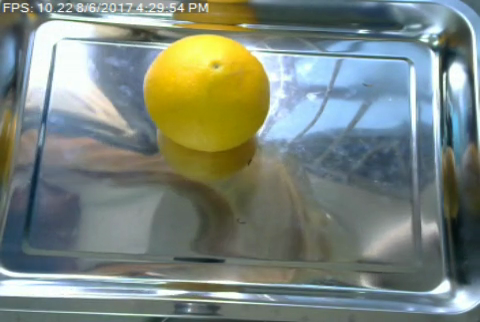Orange: (142, 32, 270, 150)
